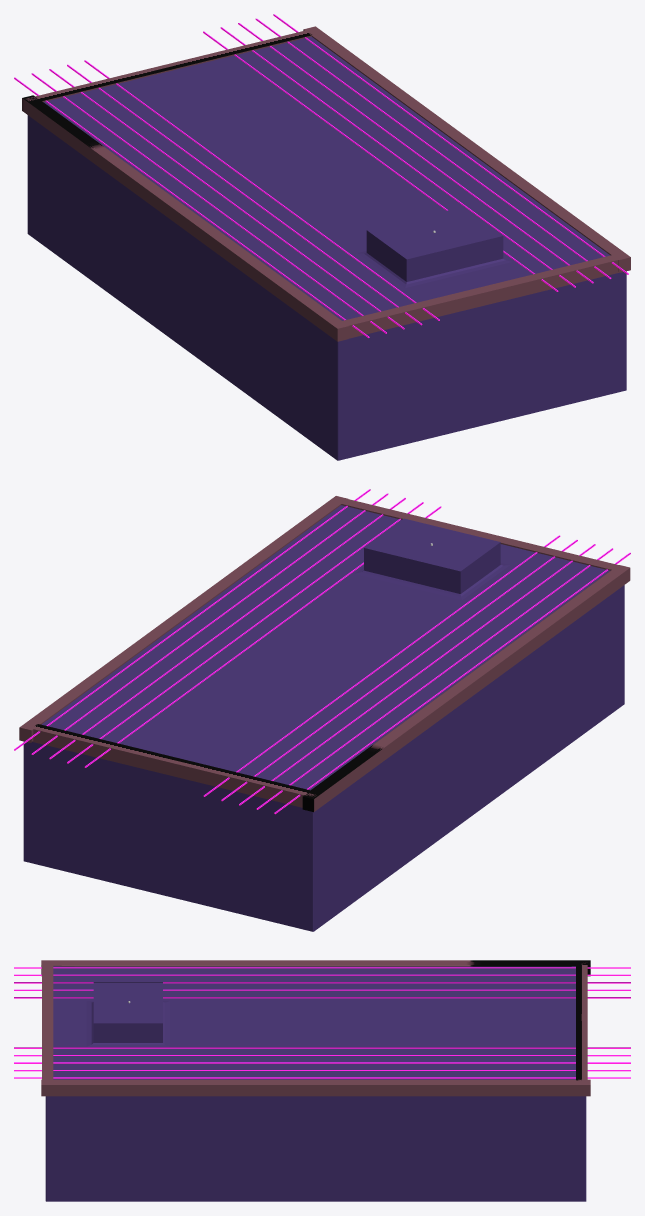
The model's file is sciany.fbx.
The picture shows the model from 3 angles, top to bottom: view 1: azimuth 30°, elevation 25°; view 2: azimuth 150°, elevation 25°; view 3: azimuth 270°, elevation 25°; orthographic projection. The views are drawn at different scales.
Parts seen in each view (by area): view 1: roof_Baked, wholeClub_Baked, kloda1_Baked, kloda1.002_Baked, kloda1.001_Baked, led.001_Baked, led_Baked, kloda1.003_Baked; view 2: roof_Baked, wholeClub_Baked, kloda1_Baked, kloda1.003_Baked, kloda1.001_Baked, led.001_Baked, led_Baked, kloda1.002_Baked; view 3: roof_Baked, wholeClub_Baked, kloda1.001_Baked, led.001_Baked, led_Baked, kloda1_Baked, kloda1.003_Baked, kloda1.002_Baked.
Part boxes in pixels (x1,y1,x2,y2): roof_Baked: (43,36,610,320); wholeClub_Baked: (27,115,626,460); kloda1_Baked: (22,95,348,341); kloda1.002_Baked: (333,255,618,338); kloda1.001_Baked: (303,26,630,272); led.001_Baked: (14,60,439,337); led_Baked: (203,14,628,291); kloda1.003_Baked: (26,30,311,103); roof_Baked: (42,505,610,790); wholeClub_Baked: (23,585,624,931); kloda1_Baked: (302,565,630,812); kloda1.003_Baked: (31,724,319,807); kloda1.001_Baked: (19,496,347,742); led.001_Baked: (203,535,630,814); led_Baked: (14,489,441,767); kloda1.002_Baked: (340,499,627,571); roof_Baked: (53,966,575,1079); wholeClub_Baked: (45,1096,586,1201); kloda1.001_Baked: (41,1079,590,1096); led.001_Baked: (14,967,630,998); led_Baked: (14,1047,630,1078); kloda1_Baked: (41,960,590,976); kloda1.003_Baked: (576,961,587,1080); kloda1.002_Baked: (42,965,53,1079).
Size of the model in its own units: 8436 by 4379 by 17645.
10 materials, 10 textured.
